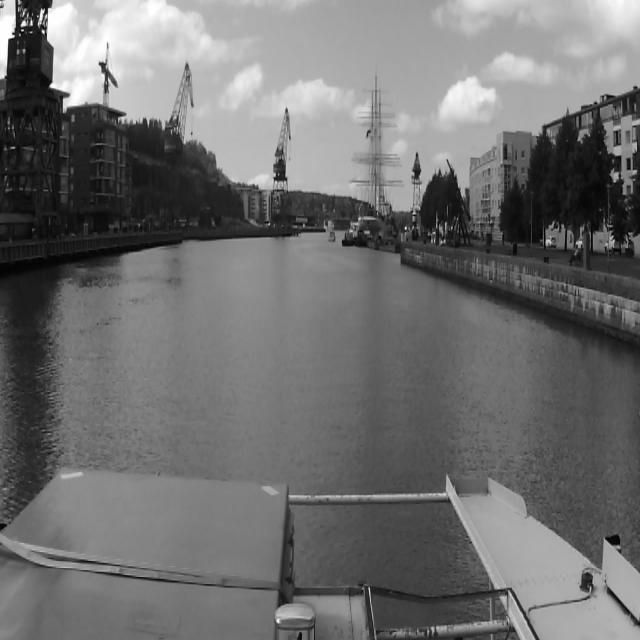ship: (349, 72, 403, 239), (354, 223, 368, 248), (327, 227, 337, 241)
